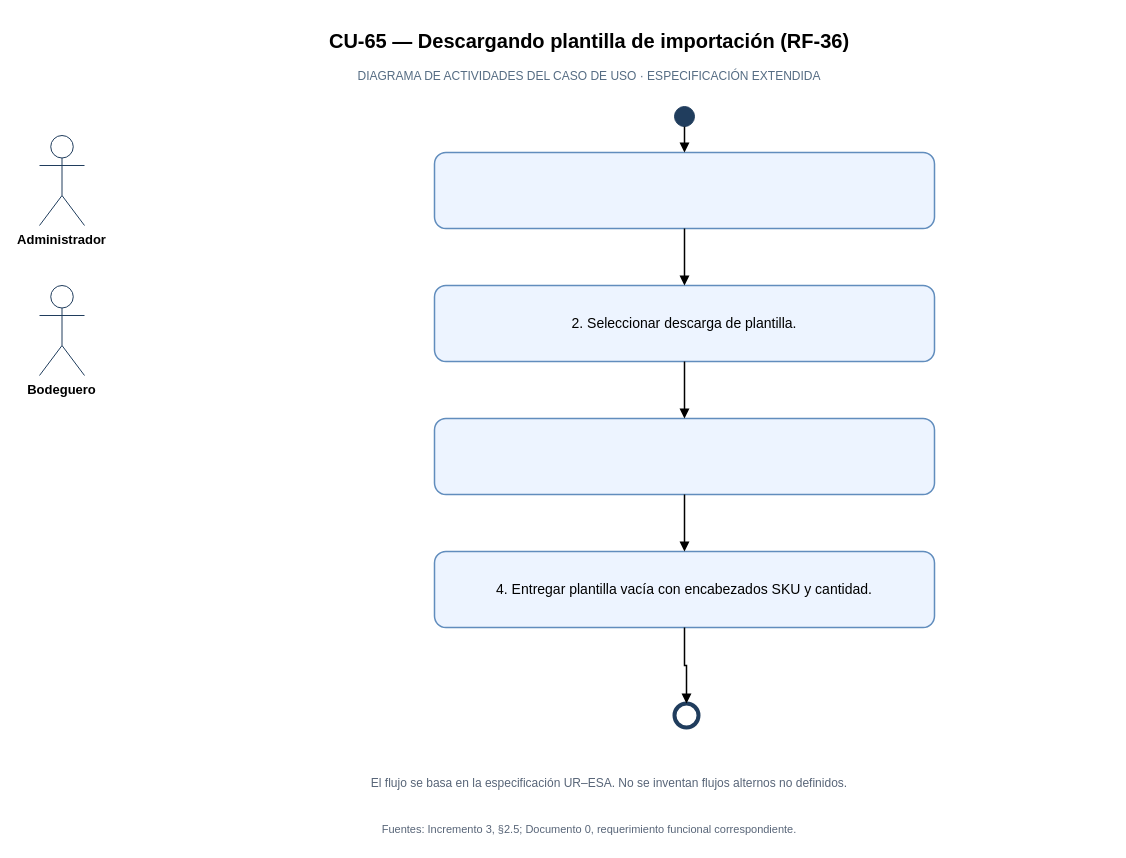
The diagram is 1126 pixels wide and 858 high, and some of its shapes have lost their labels. The shapes that lost their labels are listed below. From the top down, each one's centre as x and y in pixels, then its label:
pixel 684 190: 1. Ingresar al módulo de ajuste de inventario.
pixel 684 456: 3. Elegir Excel o CSV.
